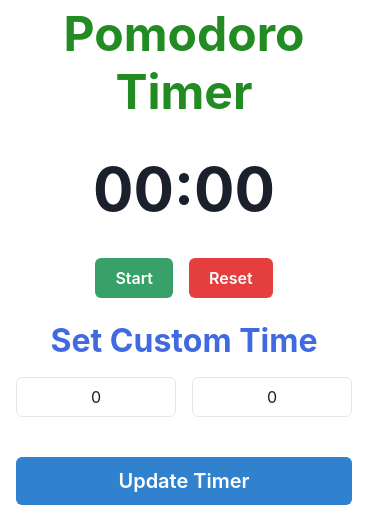
PomodoroTimer › Timer Controls › toggles between Start and Pause button text
Step 1. Click the button "Start" → (134,278), box [95, 258, 173, 298]
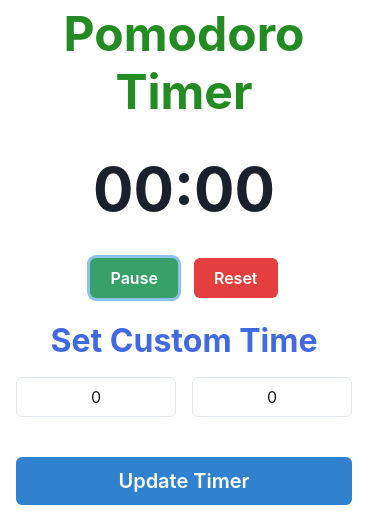
Expected: the button named "start" reads "Pause"
Step 2. Click the button named "start" → (134,278), box [90, 258, 178, 298]
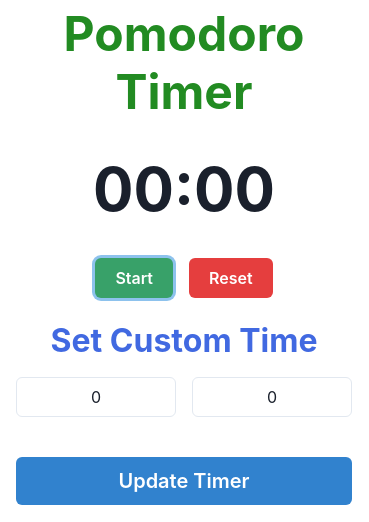
Expected: the button "Start" is shown, [95, 258, 173, 298]
